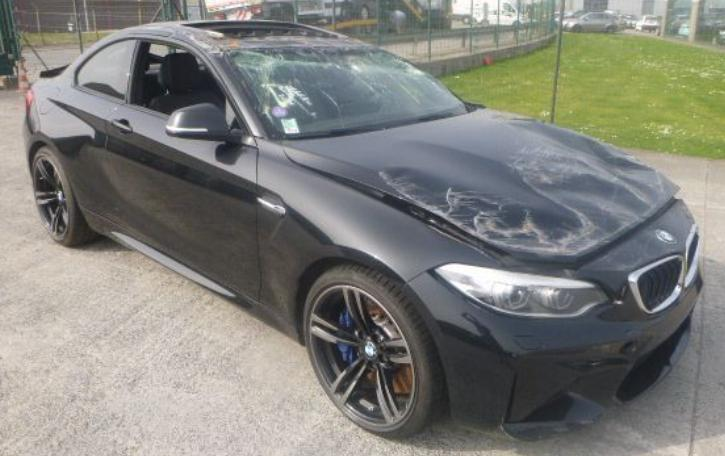Back-bumper: (21, 101, 41, 168)
Back-wheel: (31, 147, 100, 246)
Back-window: (77, 41, 136, 98)
Fender: (255, 136, 501, 326)
Front-bumper: (403, 199, 702, 440)
Front-door: (96, 41, 260, 302)
Front-wheel: (303, 265, 449, 432)
Front-window: (132, 41, 248, 133)
Grille: (629, 228, 698, 314)
Headlight: (436, 263, 609, 318)
Hood: (281, 105, 680, 260)
Mirror: (164, 104, 244, 144)
Quarter-panel: (32, 79, 121, 212)
Rocker-panel: (80, 204, 300, 344)
Roof: (123, 22, 366, 51), (287, 21, 347, 36), (177, 20, 294, 25)
Tail-light: (25, 86, 33, 118)
Windshield: (220, 46, 467, 139)
